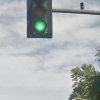Traffic light: (19, 0, 60, 46)
